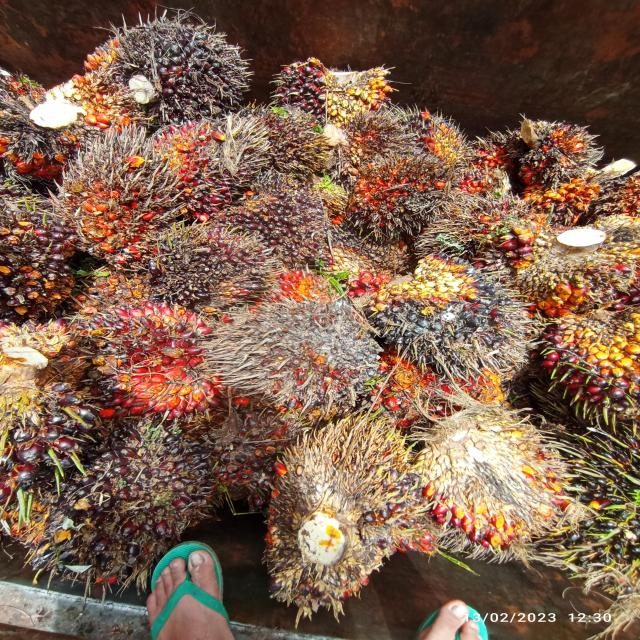fraksi 00: (362, 256, 534, 378), (109, 15, 248, 114)
fraksi 1: (153, 107, 273, 205), (144, 232, 268, 299), (233, 184, 332, 258), (280, 58, 383, 122)
fraksi 3: (102, 302, 225, 413)
fraksi 4: (224, 281, 382, 403), (46, 141, 176, 263), (512, 106, 612, 192), (345, 158, 447, 239)
